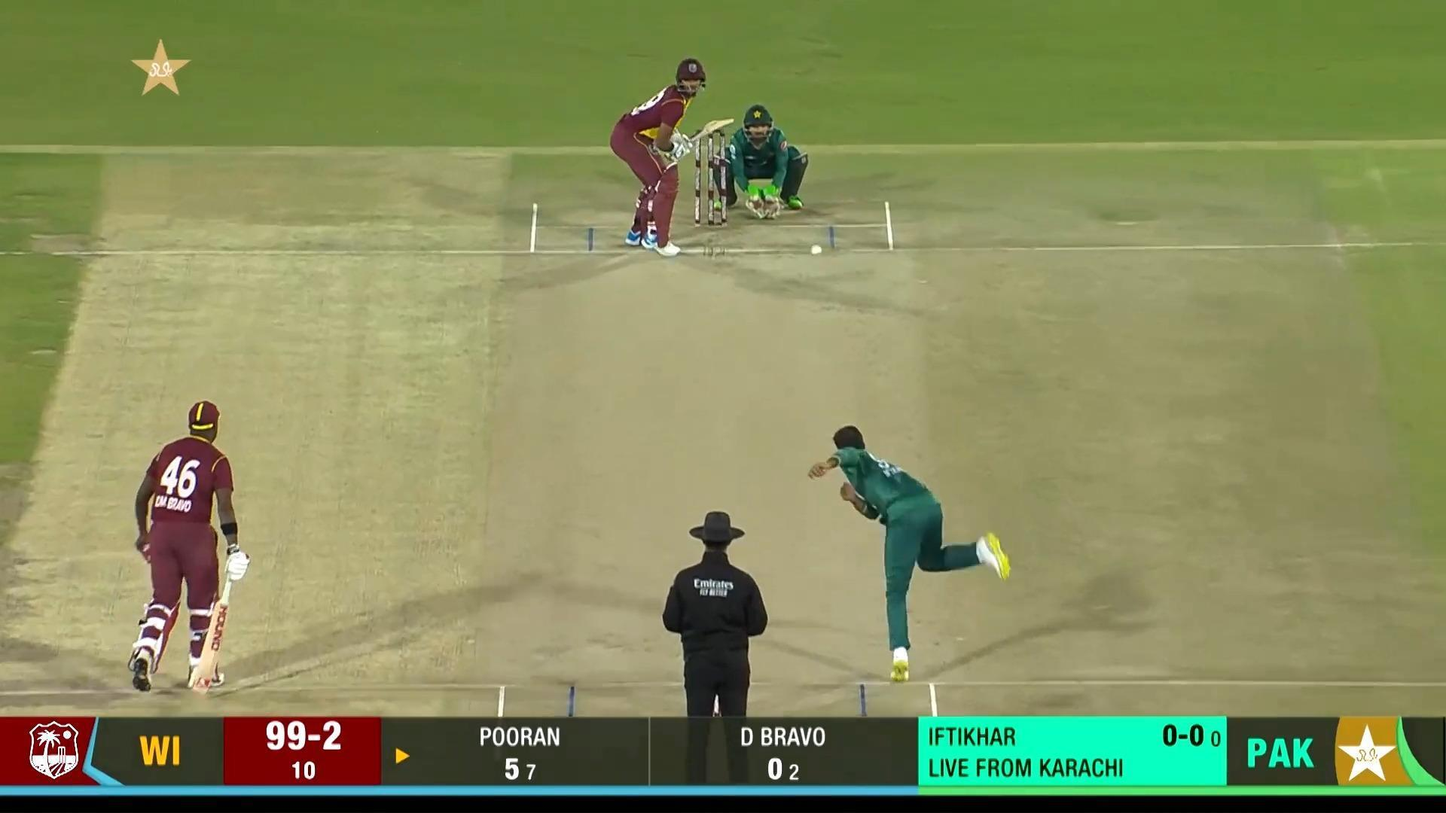BM 1: (610, 58, 734, 258)
BO: (804, 423, 1014, 683)
